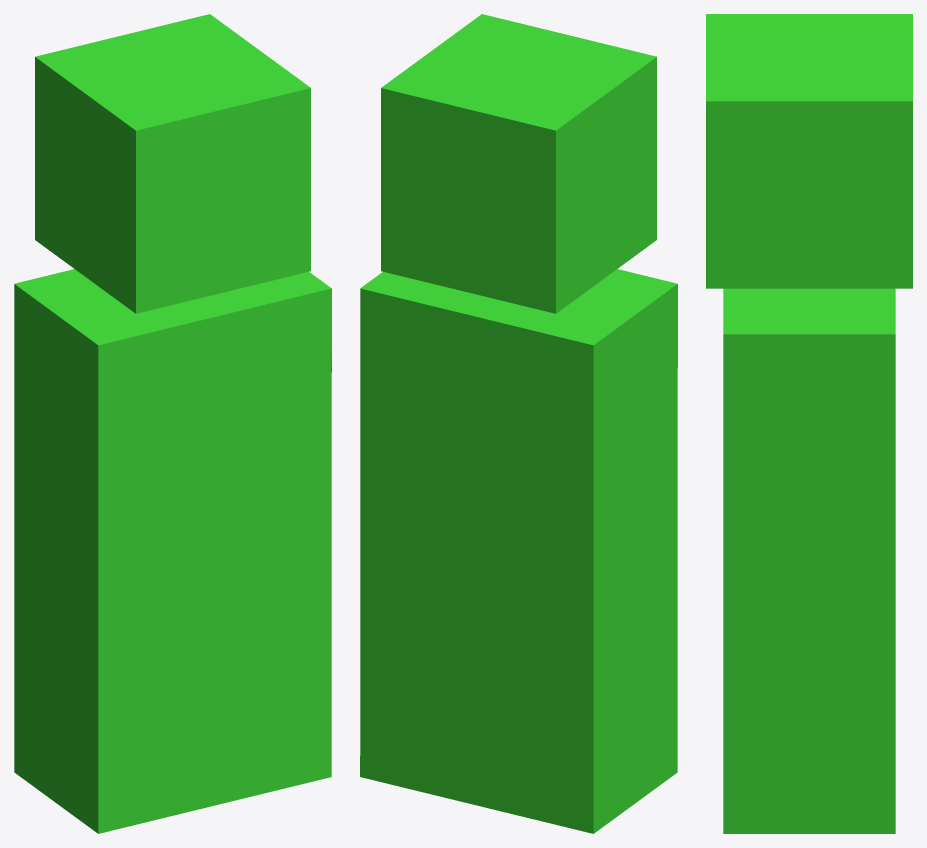
File: player-mock.fbx
3 views of the same model, side by side, from view 1: azimuth 30°, elevation 25°; view 2: azimuth 150°, elevation 25°; view 3: azimuth 270°, elevation 25° (orthographic). The views are drawn at different scales.
Parts seen in each view (by area): view 1: Cube.001, Cube; view 2: Cube.001, Cube; view 3: Cube.001, Cube.
Boxes of the visible parts, x1,y1,x2,y2 form: Cube.001: (14,269,331,833); Cube: (35,14,310,313); Cube.001: (360,269,677,833); Cube: (381,14,656,313); Cube.001: (723,288,895,833); Cube: (706,14,912,288).
Size of the model in its own units: 0.4 by 1.15 by 0.3.
